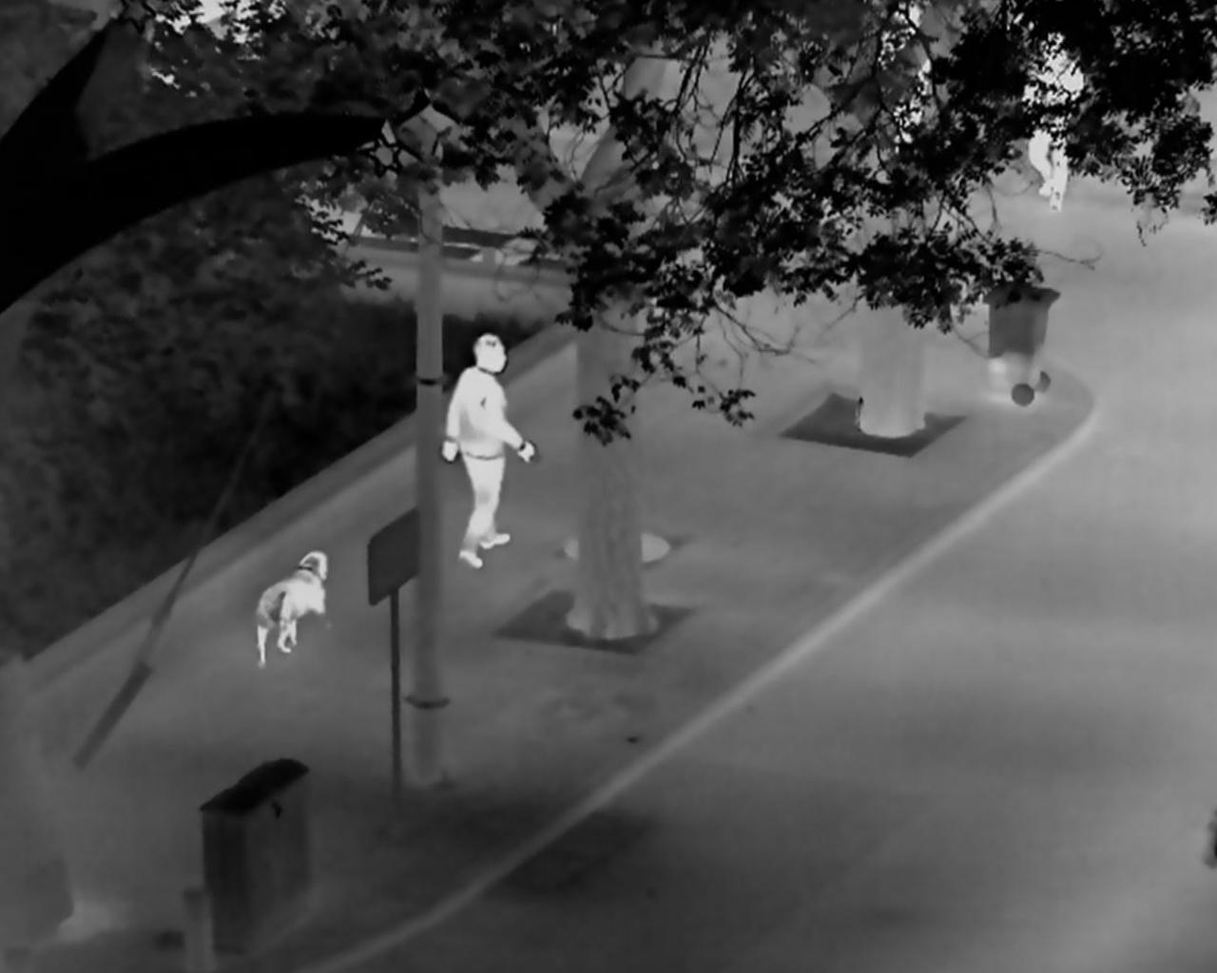person: (443, 333, 536, 570), (1020, 23, 1087, 212), (877, 3, 935, 157)
